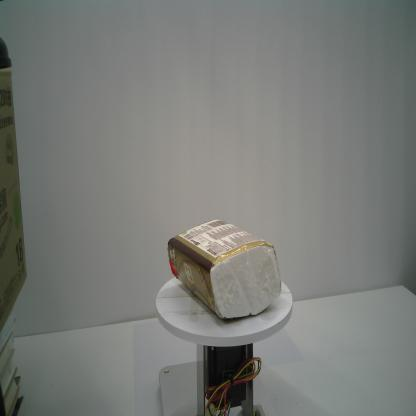Tissue: (167, 218, 283, 320)
